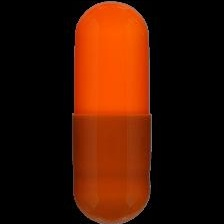0093-8739: (0, 0, 224, 224)
